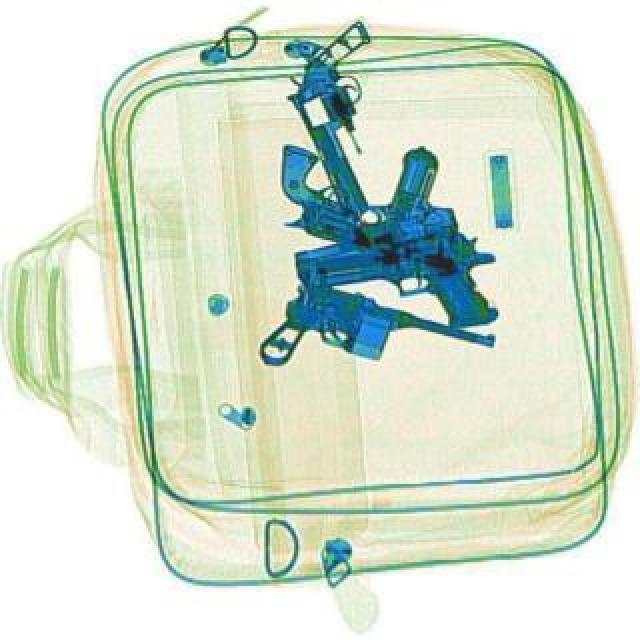gun: (252, 274, 498, 420), (264, 16, 432, 224), (288, 210, 510, 366), (260, 146, 490, 278), (268, 146, 460, 282)
